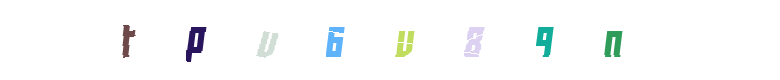6: (337, 0, 417, 80)
8: (367, 0, 447, 80)
9: (505, 0, 585, 80)
N: (573, 0, 653, 80)
P: (155, 0, 235, 80)
T: (93, 0, 173, 80)
V: (301, 0, 381, 80), (350, 0, 430, 80)
